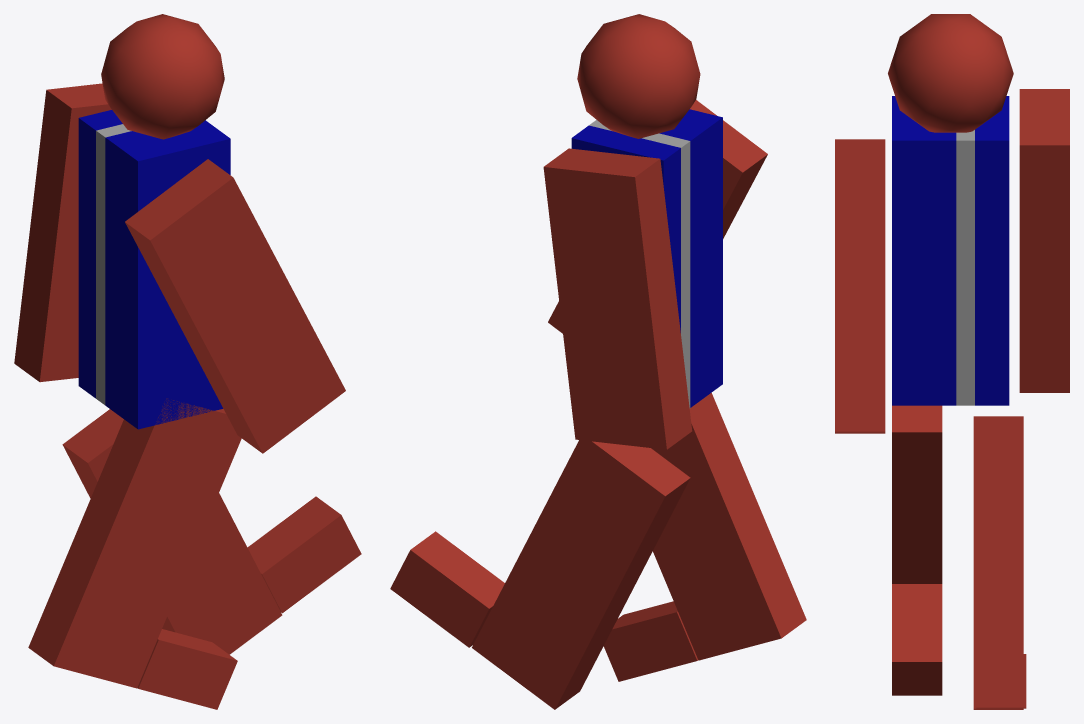
File: player_000057.obj
3 views of the same model, side by side, from view 1: azimuth 30°, elevation 25°; view 2: azimuth 150°, elevation 25°; view 3: azimuth 270°, elevation 25° (orthographic).
Parts seen in each view (by area): view 1: Cube.001, Cube.005, Cube, Cube.006, Cube.002, Icosphere, Cube.004, Cube.003; view 2: Cube.006, Cube.002, Cube.001, Cube, Icosphere, Cube.004, Cube.003, Cube.005; view 3: Cube, Cube.006, Cube.005, Cube.002, Icosphere, Cube.001, Cube.003, Cube.004.
Part boxes in pixels (left/top/right/bottom): Cube.001: left=28, top=398, right=241, bottom=688; Cube.005: left=125, top=159, right=345, bottom=453; Cube: left=78, top=110, right=230, bottom=429; Cube.006: left=14, top=83, right=111, bottom=382; Cube.002: left=62, top=409, right=282, bottom=654; Icosphere: left=101, top=14, right=224, bottom=139; Cube.004: left=247, top=496, right=361, bottom=613; Cube.003: left=137, top=629, right=237, bottom=709; Cube.006: left=543, top=148, right=692, bottom=449; Cube.002: left=472, top=440, right=690, bottom=709; Cube.001: left=651, top=393, right=806, bottom=660; Cube: left=571, top=109, right=722, bottom=408; Icosphere: left=577, top=14, right=700, bottom=138; Cube.004: left=390, top=531, right=504, bottom=647; Cube.003: left=603, top=601, right=697, bottom=681; Cube.005: left=548, top=100, right=767, bottom=333; Cube: left=892, top=96, right=1009, bottom=405; Cube.006: left=1019, top=89, right=1069, bottom=392; Cube.005: left=835, top=139, right=885, bottom=433; Cube.002: left=973, top=416, right=1023, bottom=709; Icosphere: left=888, top=14, right=1013, bottom=132; Cube.001: left=892, top=405, right=942, bottom=583; Cube.003: left=892, top=584, right=942, bottom=695; Cube.004: left=976, top=654, right=1026, bottom=708.
Bounding box in the file's own units: 1.56 × 2.88 × 0.9137.
